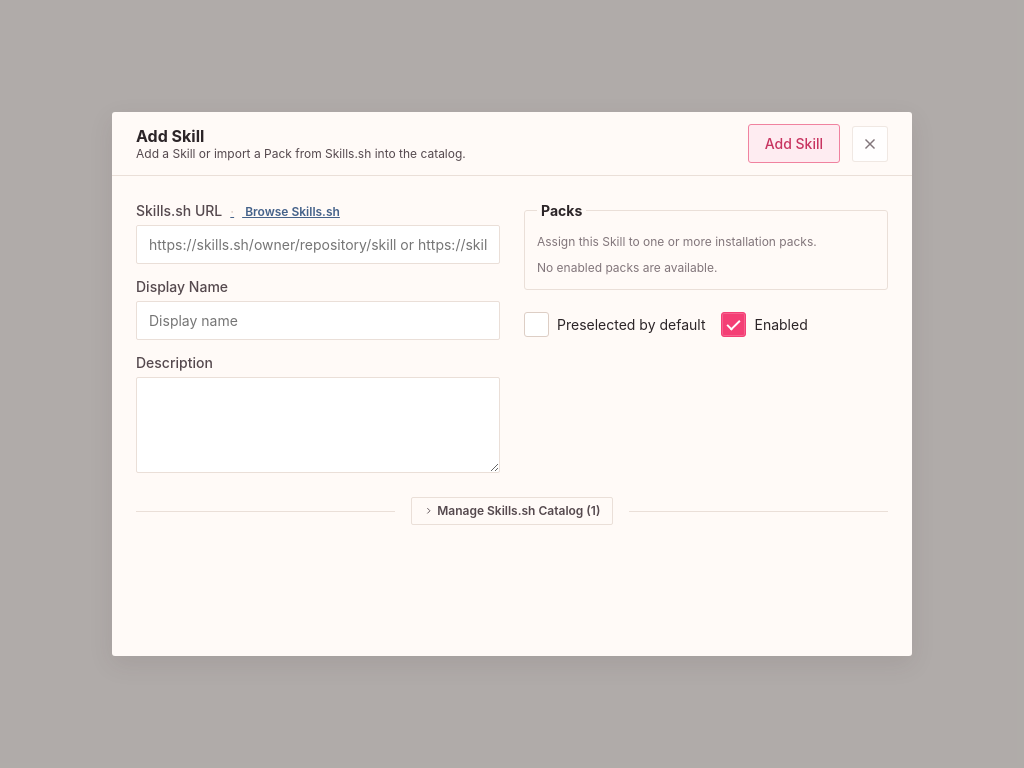
Test: AddSkillDialog › Skills.sh catalog table › quick-edits a catalog Skill by clicking its name, then saves it as an update
Click the button with class "add-skill-dialog__catalog-toggle" at (512, 511), box [411,497,613,525]
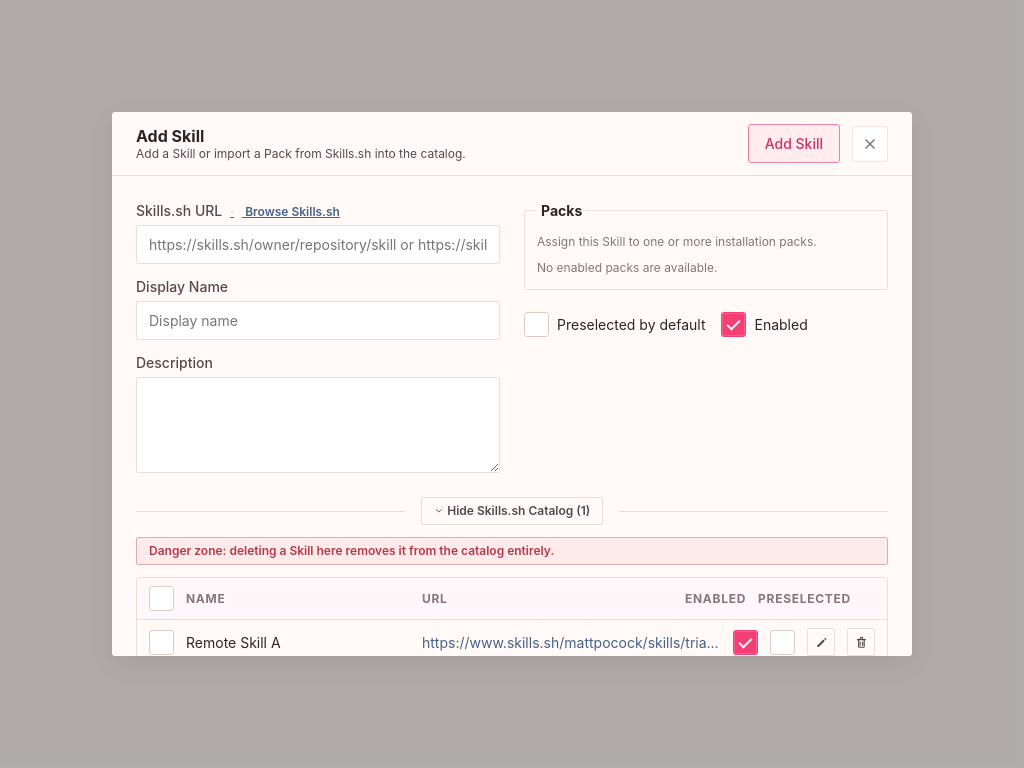
Expected: the button with class "button--primary" reads "Add Skill", [748,124,840,163]
Click the button with class "add-skill-dialog__skill-name" at (298, 642), box [186,632,410,652]
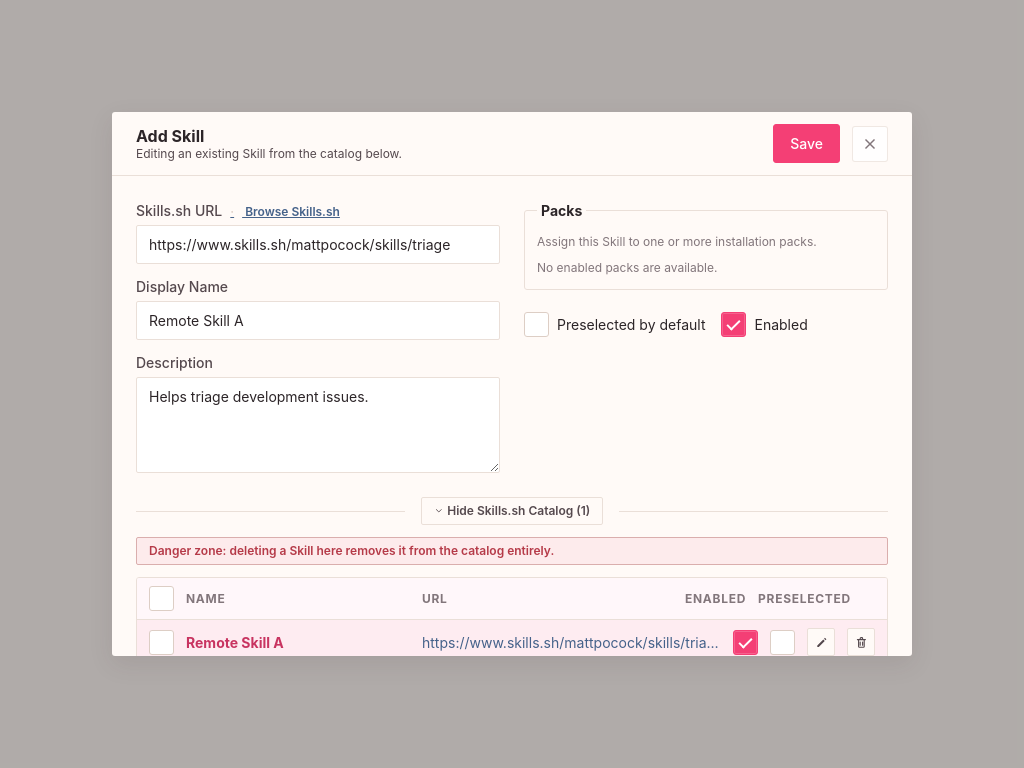
Expected: the field labelled "Skills.sh URL Browse Skills.sh" holds "https://www.skills.sh/mattpocock/skills/triage", [136,225,500,264]
Expected: the field labelled "Display Name" holds "Remote Skill A"
Expected: the text box labelled "Description" holds "Helps triage development issues.", [136,377,500,473]
Replace the text in the field labelled "Display Name" with "Renamed Skill" at (318, 320), box [136,301,500,340]
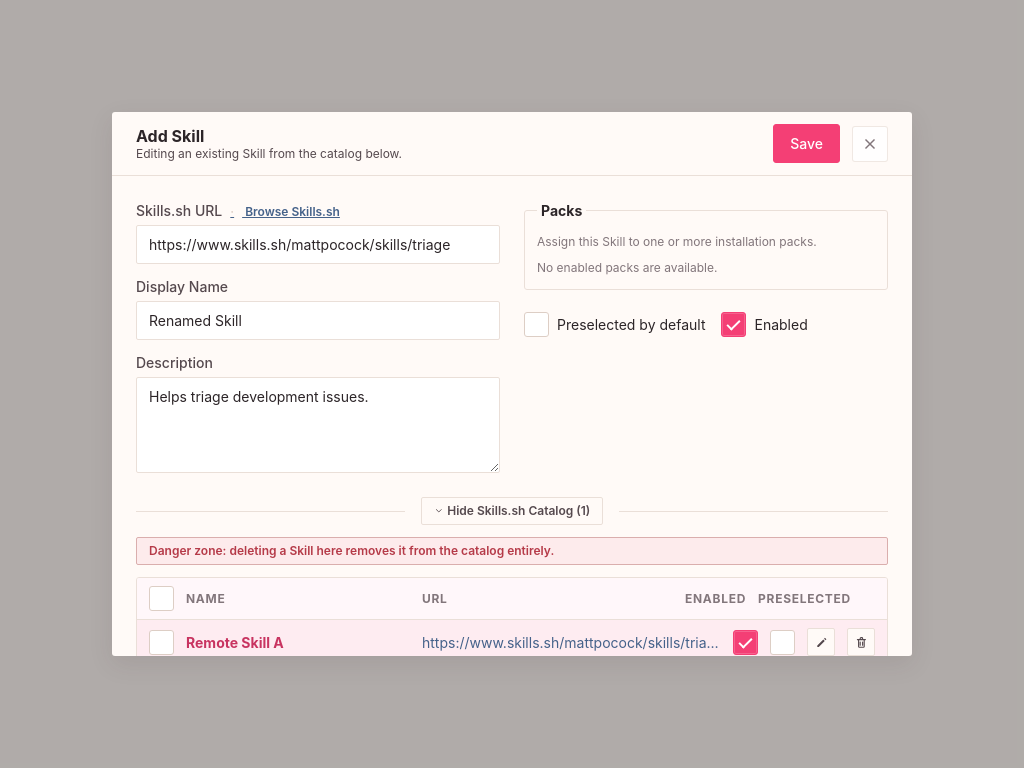
Submit the form, box [136,200,888,473]
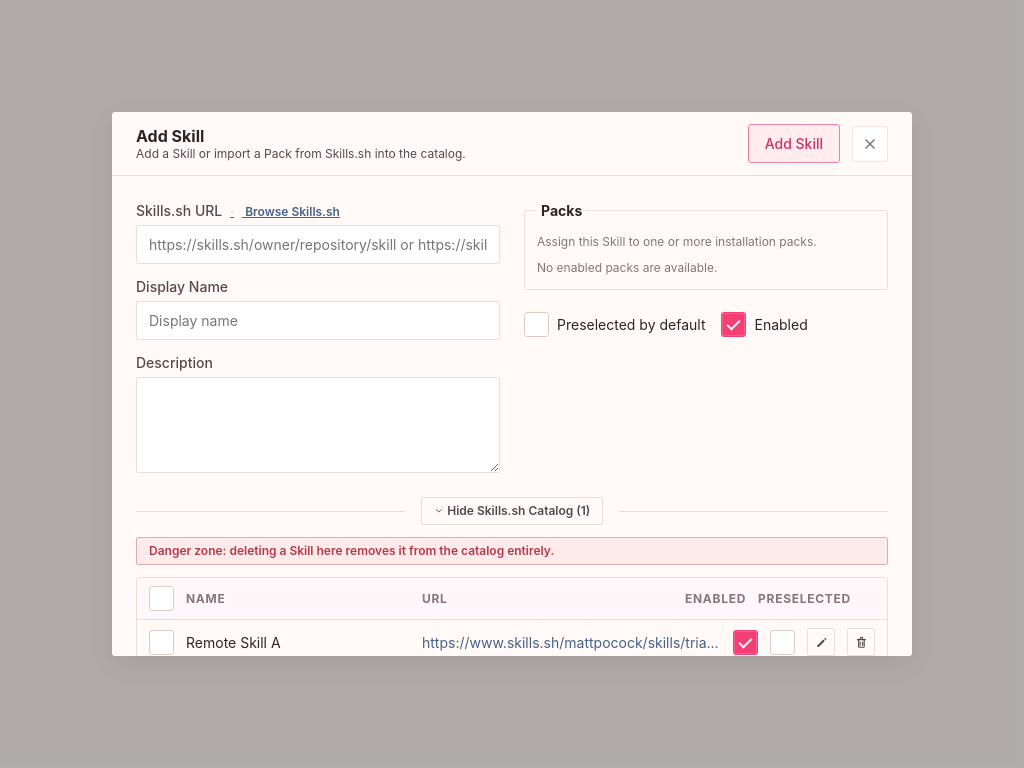
Expected: the table with class "add-skill-dialog__table" is shown, [136,577,888,656]
Expected: the button with class "button--primary" reads "Add Skill", [748,124,840,163]
Expected: the field labelled "Display Name" is empty, [136,301,500,340]
